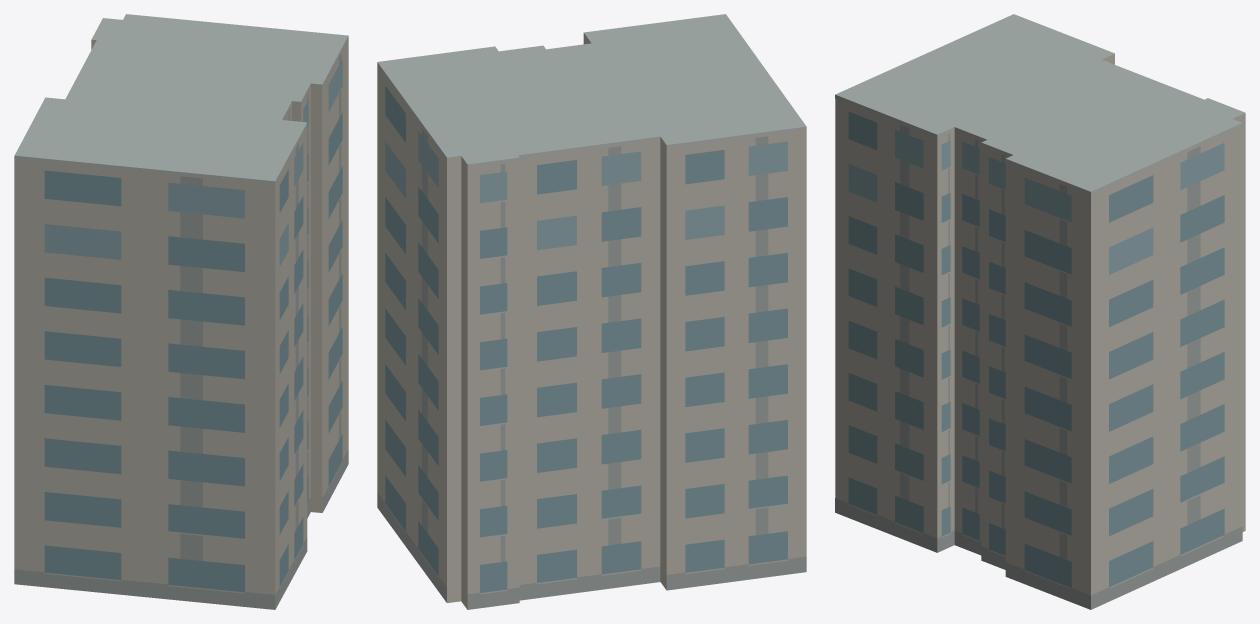
File: survey-upis-32764798.glb
The picture shows the model from 3 angles, left to right: view 1: azimuth 30°, elevation 25°; view 2: azimuth 150°, elevation 25°; view 3: azimuth 270°, elevation 25°; orthographic projection. The views are drawn at different scales.
Visible parts, largest first — view 1: survey-upis-32764798.tmp; view 2: survey-upis-32764798.tmp; view 3: survey-upis-32764798.tmp.
Boxes of the visible parts, x1,y1,x2,y2 form: survey-upis-32764798.tmp: (14, 14, 348, 609); survey-upis-32764798.tmp: (377, 14, 806, 609); survey-upis-32764798.tmp: (835, 14, 1245, 609).
Bounding box in the file's own units: 22.26 × 24.4 × 21.73.
